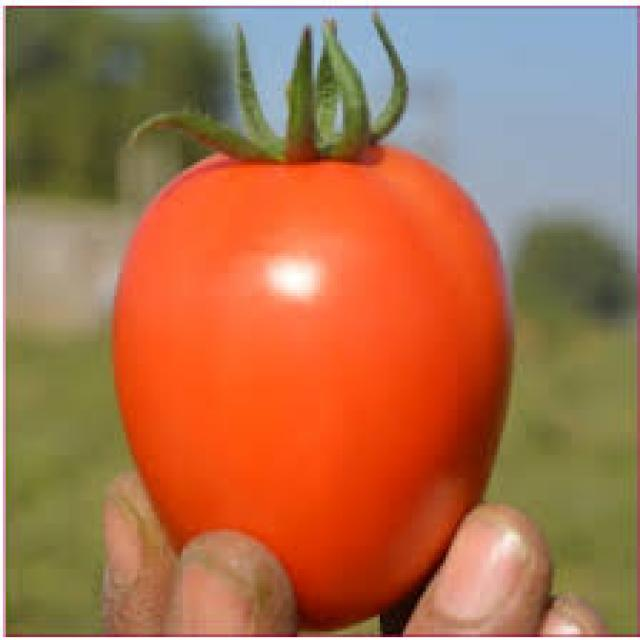Fresh_tomato: (127, 140, 500, 578)
